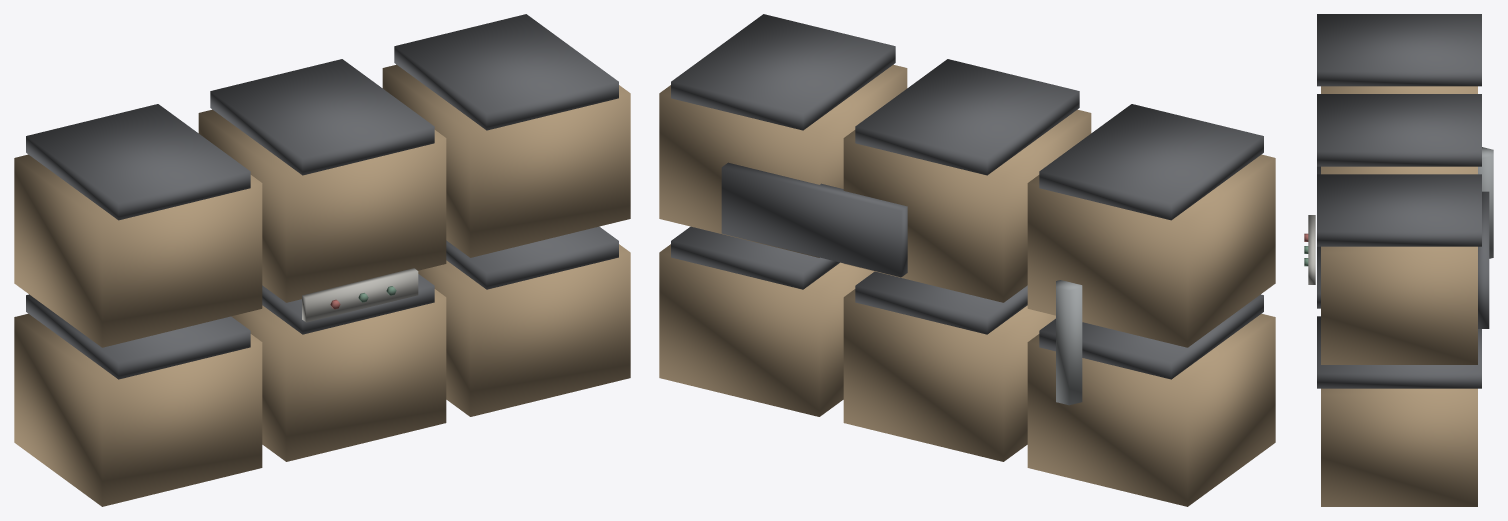
File: produce_stand__service.glb
The picture shows the model from 3 angles, left to right: view 1: azimuth 30°, elevation 25°; view 2: azimuth 150°, elevation 25°; view 3: azimuth 270°, elevation 25°; orthographic projection. The views are drawn at different scales.
Parts seen in each view (by area): view 1: world; view 2: world; view 3: world.
Boxes of the visible parts, <box> form: world: <box>14,14,630,506</box>; world: <box>659,14,1275,506</box>; world: <box>1304,14,1493,506</box>.
Bounding box in the file's own units: 1.32 × 0.72 × 0.4596.
